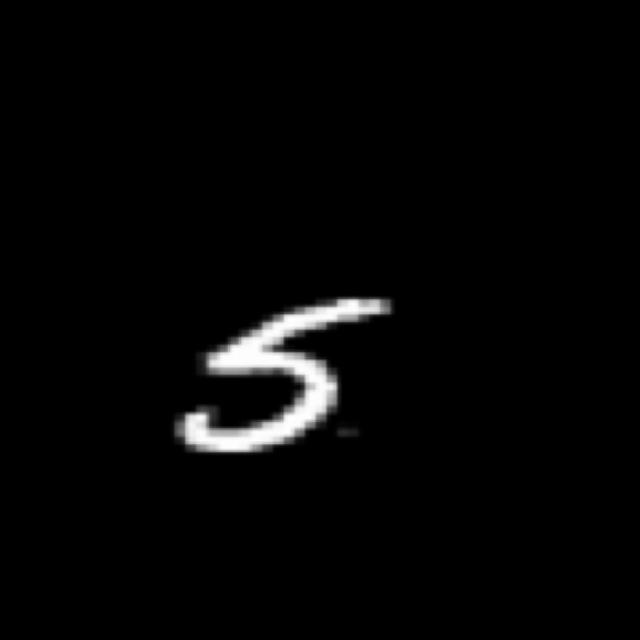five -5-: (170, 288, 397, 454)
